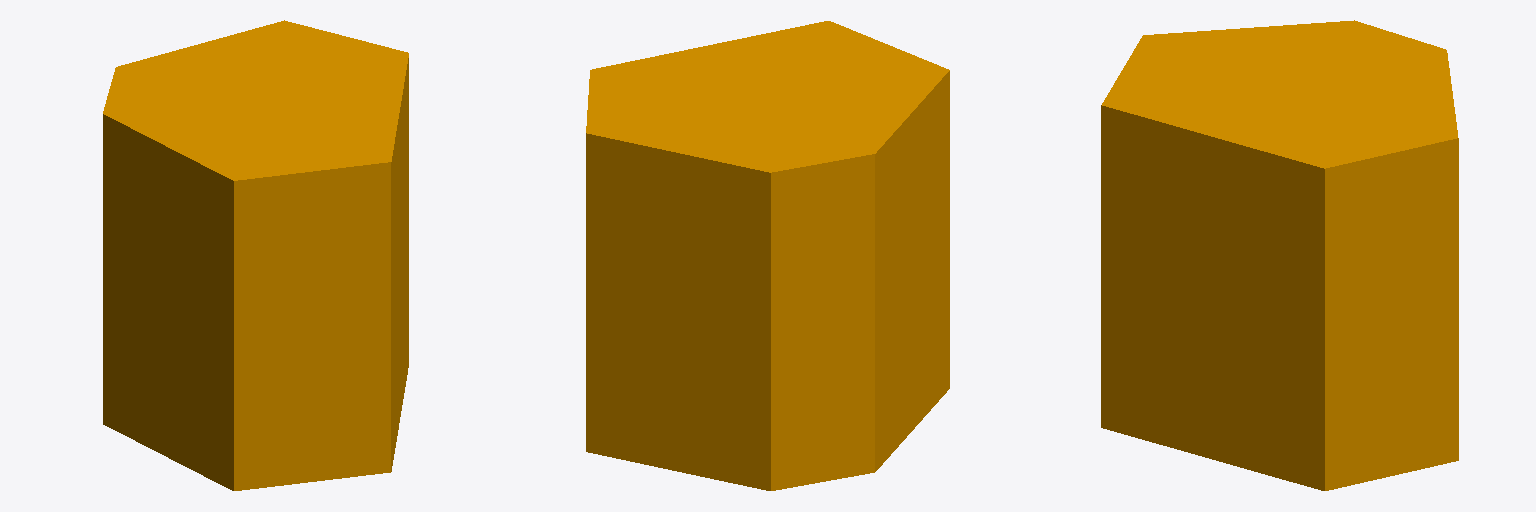
The robot description file, URDF, robot "object":
<?xml version="1.0"?>
<robot name="object">
  <link name="object">
    <visual>
      <origin xyz="0 0 0"/>
      <geometry>
        <mesh filename="meshes/generated/col_026.obj" scale="0.03 0.03 0.03"/>
      </geometry>
    </visual>
    <collision>
      <origin xyz="0 0 0"/>
      <geometry>
        <mesh filename="meshes/generated/col_026.obj" scale="0.03 0.03 0.03"/>
      </geometry>
    </collision>
    <inertial>
      <density value="1000.0"/>
    </inertial>
  </link>
</robot>

--- Render facts (derived) ---
3 views of the same robot in one strip: view 1: azimuth 30°, elevation 25°; view 2: azimuth 150°, elevation 25°; view 3: azimuth 270°, elevation 25° (orthographic).
Model object with 1 links and 0 joints (none), rooted at object, posed all joints at 0.
Visible links, largest first — view 1: object; view 2: object; view 3: object.
Boxes of the visible links, x1=… form: object: x1=103, y1=20, x2=408, y2=490; object: x1=586, y1=21, x2=949, y2=490; object: x1=1101, y1=20, x2=1458, y2=490.
Bounding box of the posed robot: 0.0591 × 0.0602 × 0.06 m (x, y, z).
Meshes: 1 distinct files referenced, 1 mesh visuals loaded (1 OBJ).
